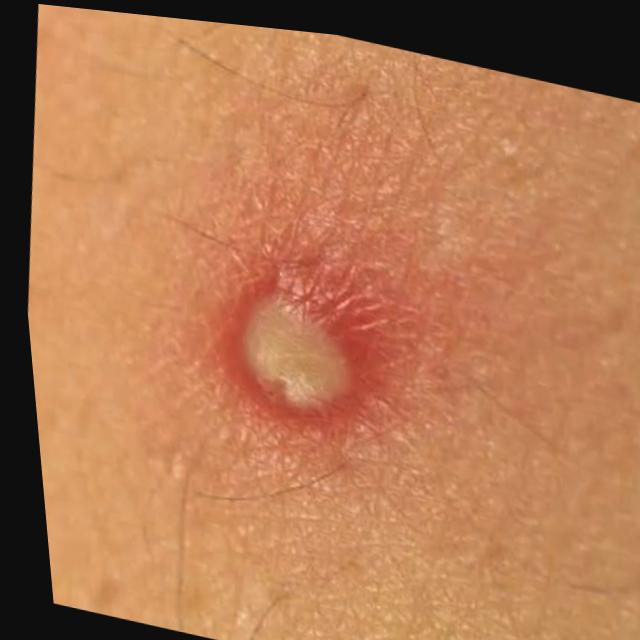pustule: (211, 227, 399, 479)
